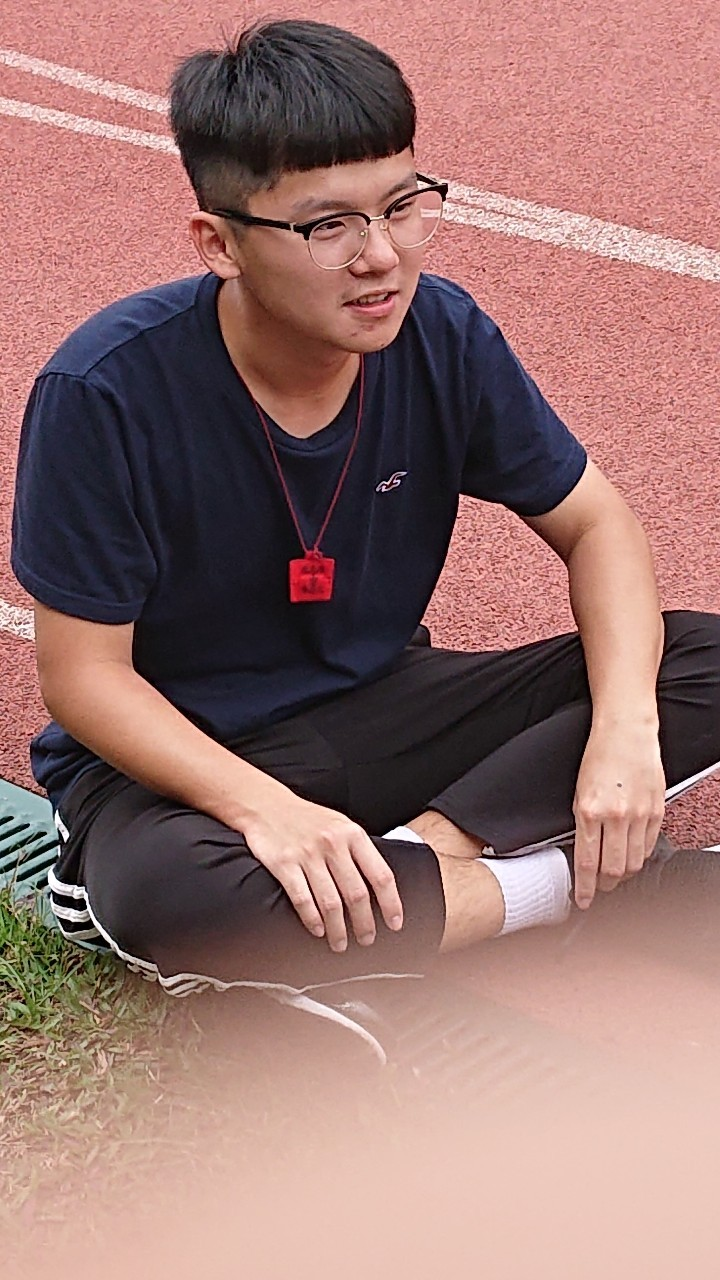people: (103, 14, 654, 947)
